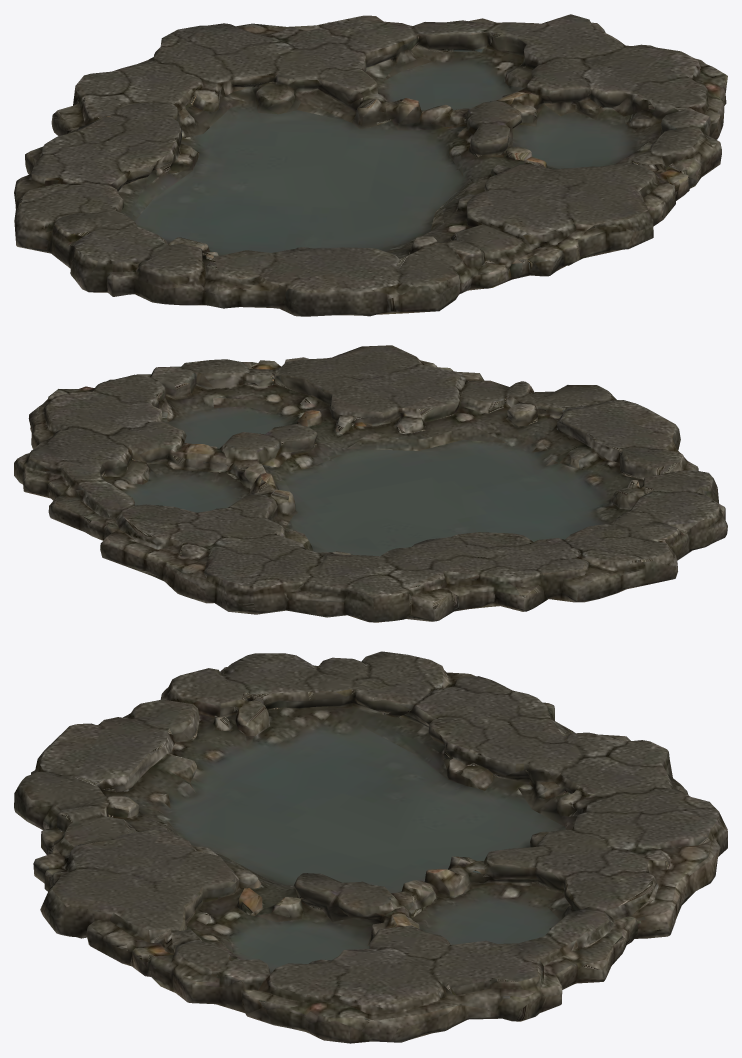
The model's file is pothole.glb.
The picture shows the model from 3 angles, top to bottom: view 1: azimuth 30°, elevation 25°; view 2: azimuth 150°, elevation 25°; view 3: azimuth 270°, elevation 25°; orthographic projection. The views are drawn at different scales.
Visible parts, largest first — view 1: tripo_node_ea34cce7; view 2: tripo_node_ea34cce7; view 3: tripo_node_ea34cce7.
Boxes of the visible parts, x1,y1,x2,y2 form: tripo_node_ea34cce7: (14,14,727,316); tripo_node_ea34cce7: (14,345,727,622); tripo_node_ea34cce7: (14,651,727,1043).
Size of the model in its own units: 97.75 by 5.58 by 80.05.
Materials: 1 (1 with a texture image).
